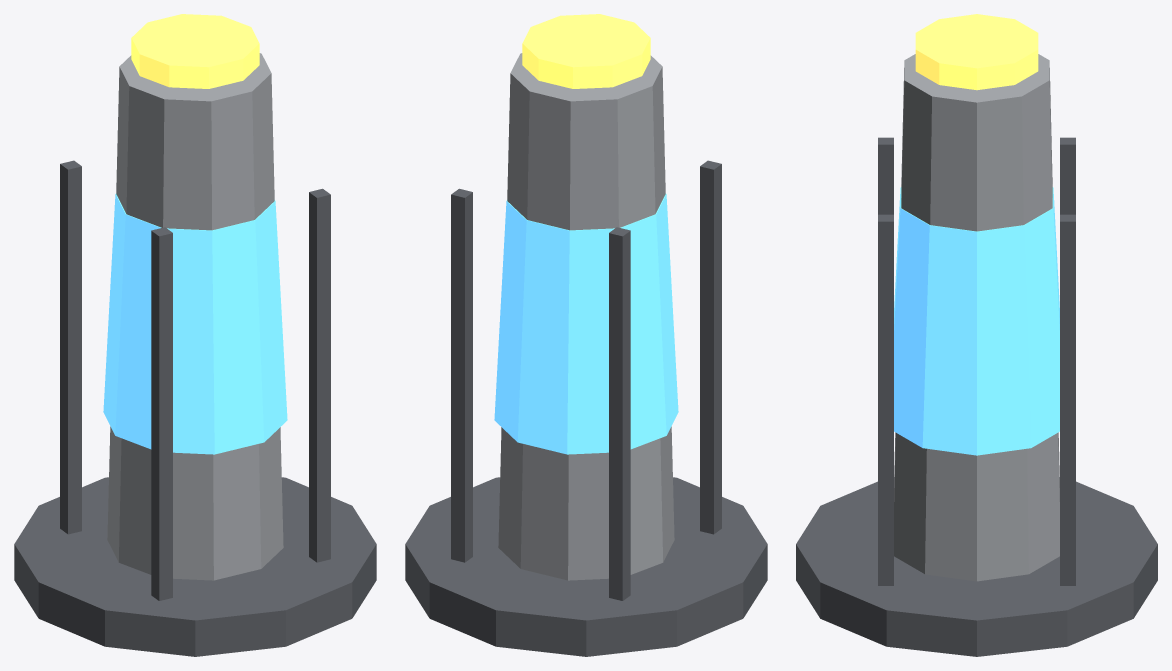
File: ReactorTower.glb
3 renders of one model, left to right at view 1: azimuth 30°, elevation 25°; view 2: azimuth 150°, elevation 25°; view 3: azimuth 270°, elevation 25°, orthographic.
Visible parts, largest first — view 1: ReactorTower; view 2: ReactorTower; view 3: ReactorTower.
Boxes of the visible parts, x1=… form: ReactorTower: x1=14, y1=14, x2=376, y2=656; ReactorTower: x1=405, y1=14, x2=767, y2=656; ReactorTower: x1=796, y1=14, x2=1157, y2=656.
Size of the model in its own units: 18 by 29.6 by 18.
